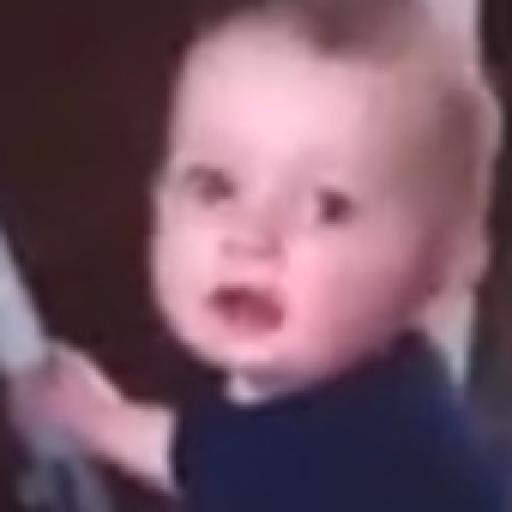Autism: (175, 18, 492, 406)
